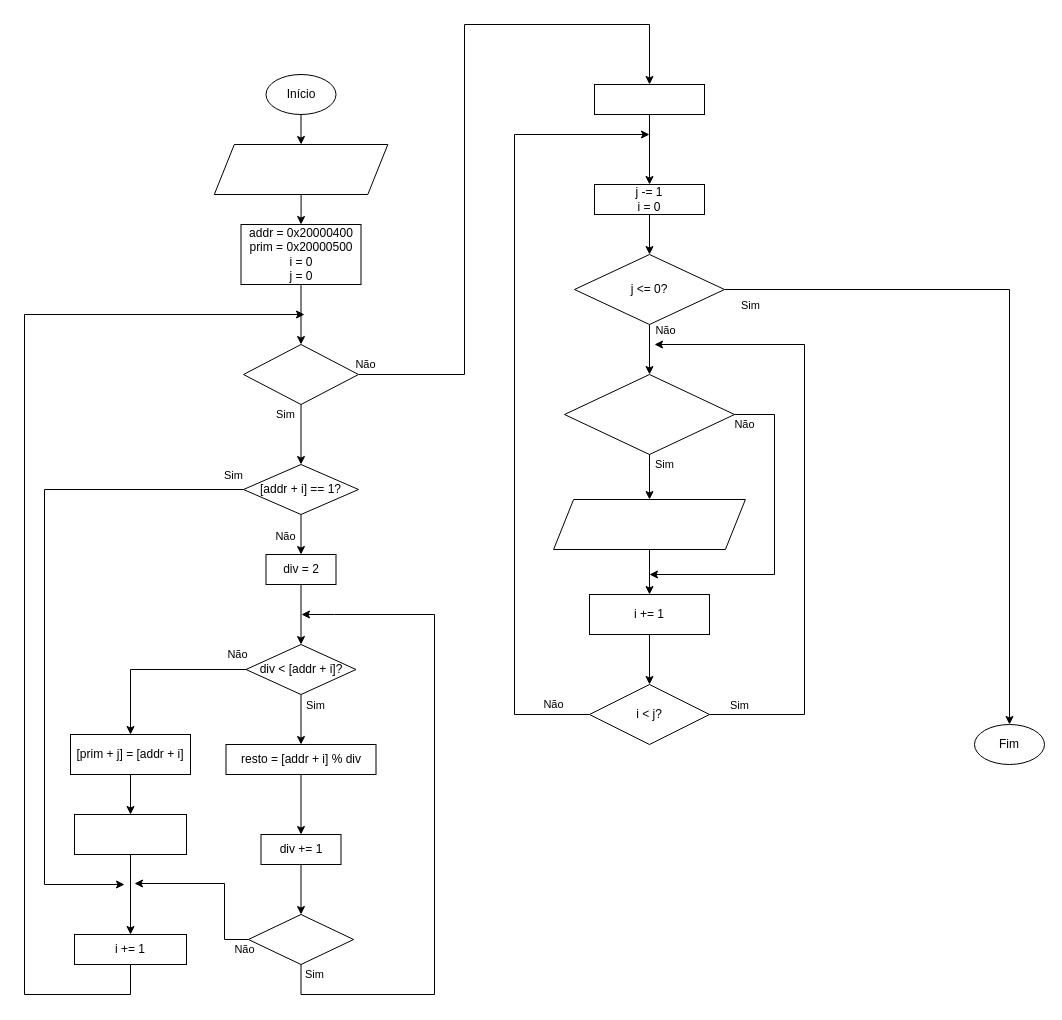
Some shapes in this 1062 by 1020 pixel diagram are drawn without their labels. Each missing label, with the centre of its shape:
"[prim + i] > [prim + i + 1]?" belongs at (649,414).
"i < n ?" belongs at (300,374).
"Insere n números aleatórios" belongs at (300,169).
"j += 1" belongs at (130,834).
"m = j" belongs at (649,99).
"resto == 0?" belongs at (300,939).
"troca [prim + i] e [prim + i + 1]" belongs at (649,524).
